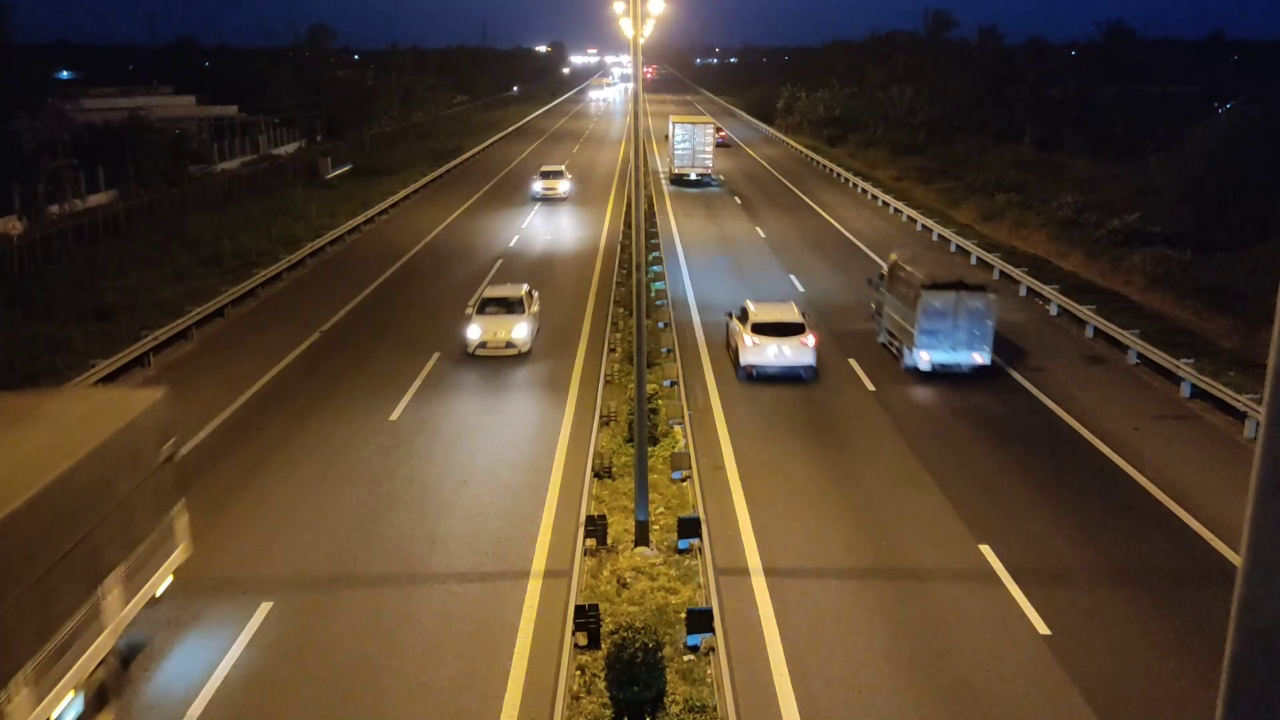car: (725, 299, 819, 383), (462, 282, 540, 357), (529, 165, 574, 202)
truck: (867, 253, 999, 375)
